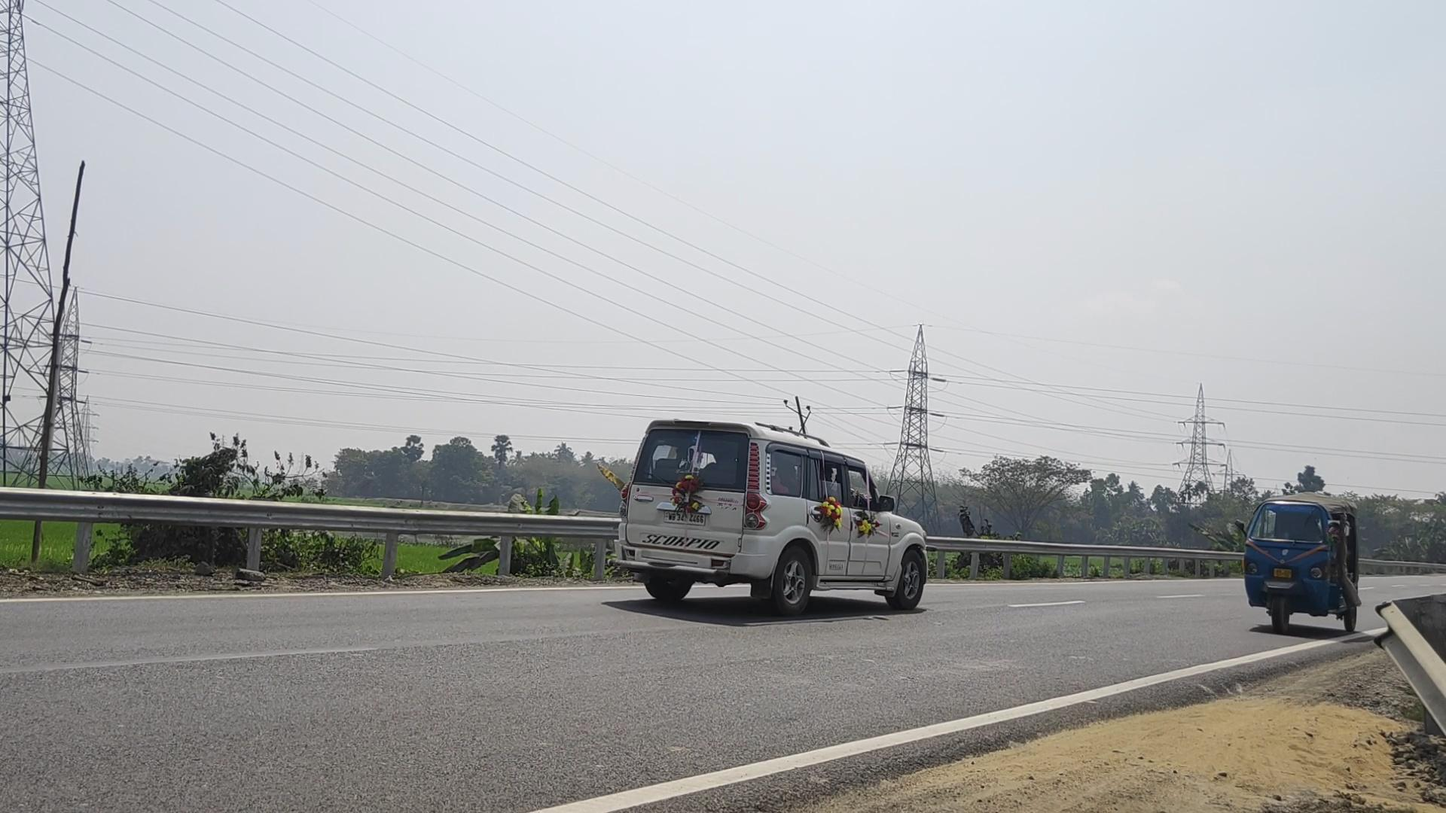Auto: (1235, 492, 1359, 635)
car: (608, 418, 938, 619)
